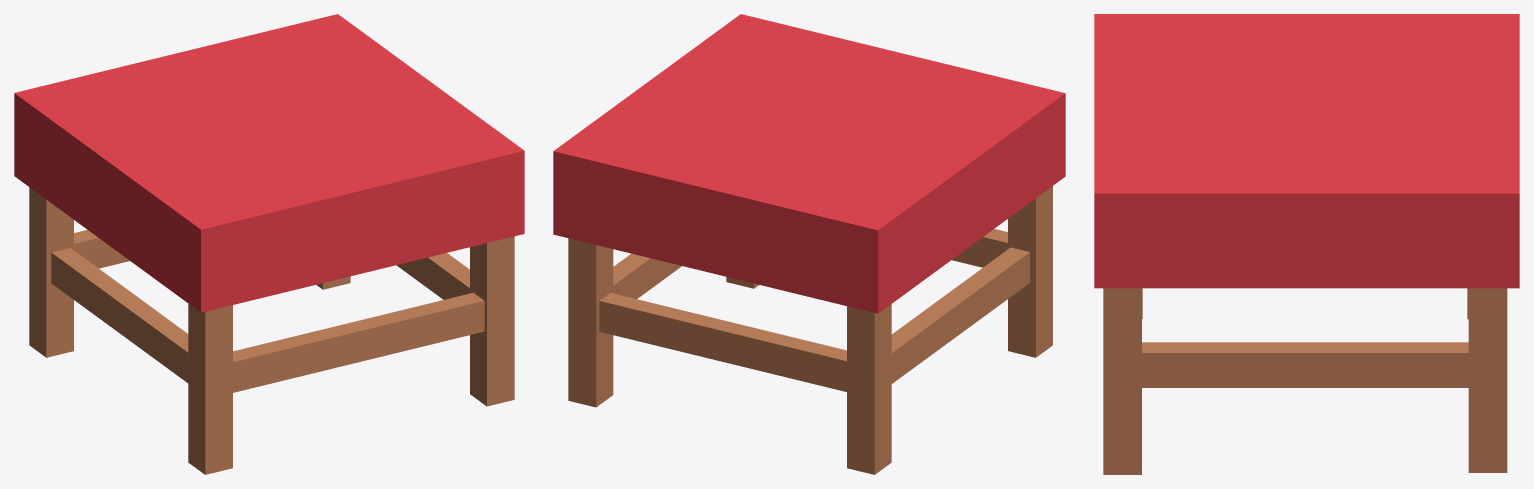
File: stool.fbx
The picture shows the model from 3 angles, left to right: view 1: azimuth 30°, elevation 25°; view 2: azimuth 150°, elevation 25°; view 3: azimuth 270°, elevation 25°; orthographic projection. The views are drawn at different scales.
Parts seen in each view (by area): view 1: Cube.038, Cube.036, Cube.033, Cube.041, Cube.039, Cube.034, Cube.040, Cube.042; view 2: Cube.038, Cube.042, Cube.034, Cube.037, Cube.041, Cube.033, Cube.040, Cube.036; view 3: Cube.038, Cube.040, Cube.037, Cube.039.
Part boxes in pixels (<box>): Cube.038: <box>14,14,524,312</box>; Cube.036: <box>233,292,484,392</box>; Cube.033: <box>188,304,232,474</box>; Cube.041: <box>51,248,188,383</box>; Cube.039: <box>470,236,514,406</box>; Cube.034: <box>29,187,73,357</box>; Cube.040: <box>396,253,469,299</box>; Cube.042: <box>74,230,129,268</box>; Cube.038: <box>553,14,1065,313</box>; Cube.042: <box>599,293,846,391</box>; Cube.034: <box>847,304,891,474</box>; Cube.037: <box>568,238,613,407</box>; Cube.041: <box>891,247,1029,383</box>; Cube.033: <box>1008,186,1052,357</box>; Cube.040: <box>613,253,681,298</box>; Cube.036: <box>952,229,1007,267</box>; Cube.038: <box>1094,14,1519,288</box>; Cube.040: <box>1142,342,1468,387</box>; Cube.037: <box>1468,288,1507,472</box>; Cube.039: <box>1103,288,1141,474</box>.
Bounding box in the file's own units: 35.63 × 26.34 × 35.63.
